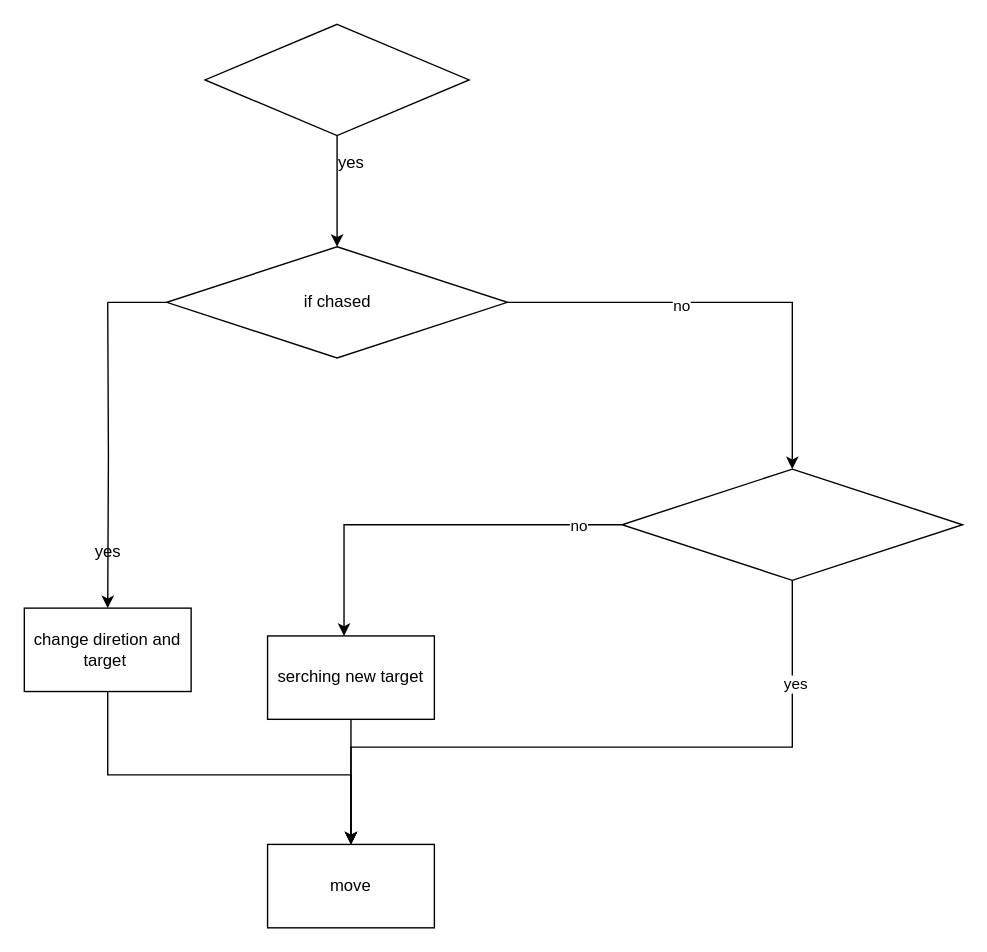
This 987x952 diagram has some shape labels left out. The centre of each missing label's shape, as x and y in pixels:
"if bigfish" belongs at point 336,79.
"if target" belongs at point 792,524.
